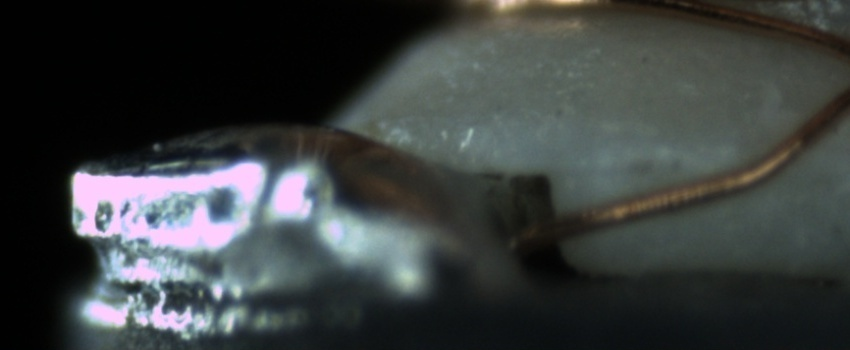DL: (585, 127, 756, 185)
